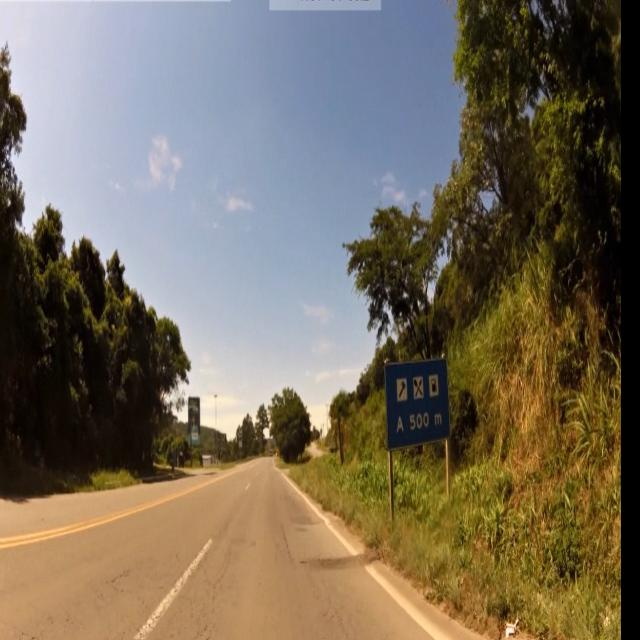LOC-6: (386, 365, 452, 446)
